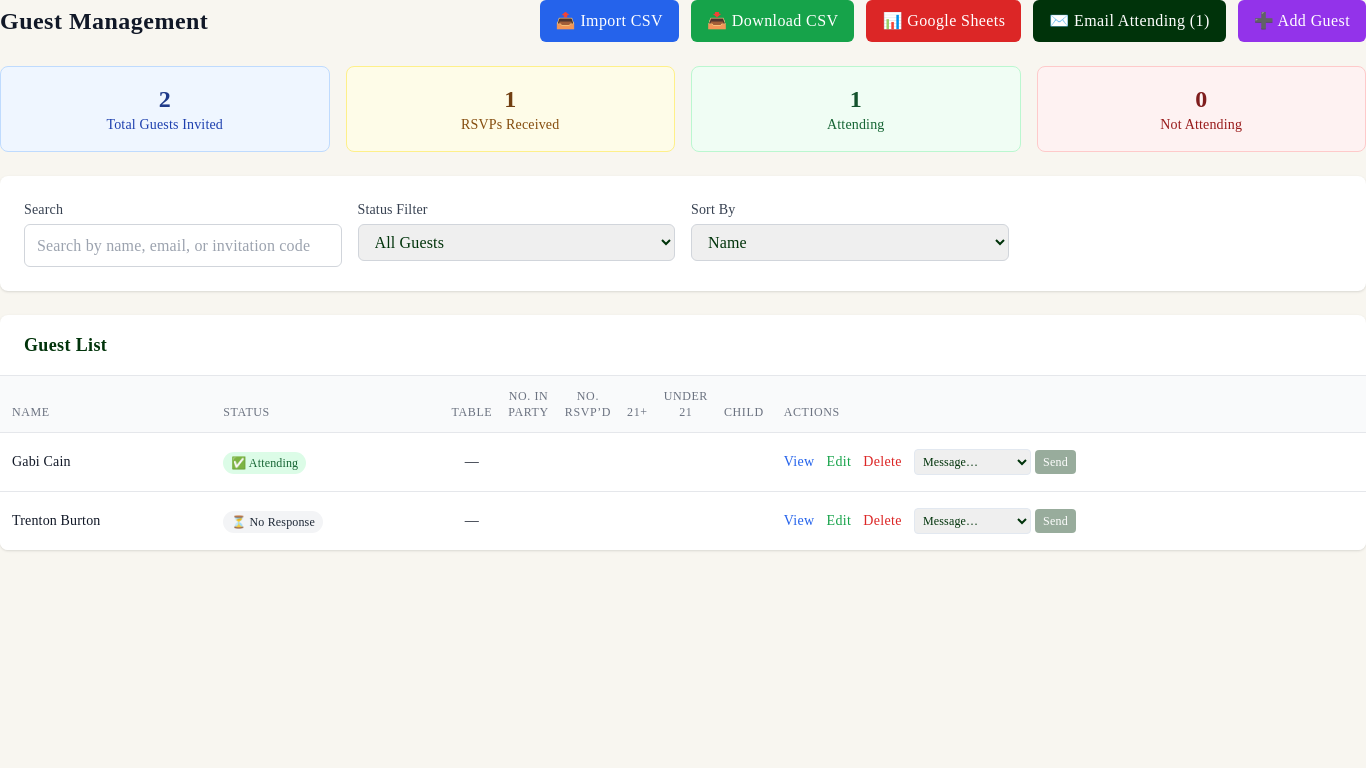
Test: the popup › closes itself once the file is downloaded
Expected: the text "Gabi Cain" is shown, [12,454,71,469]
Click the button "📥 Download CSV" at (773, 21), box [691,0,854,42]
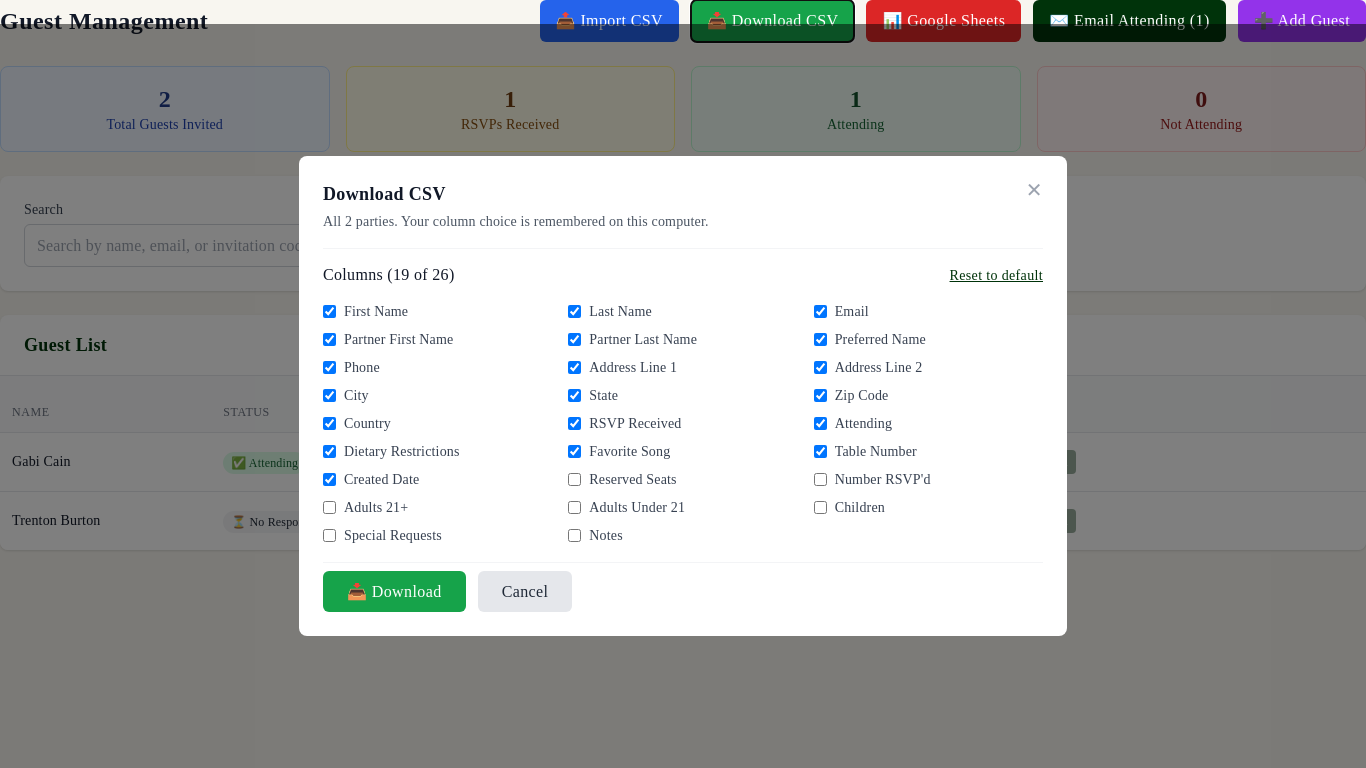
Click the button "📥 Download" at (394, 592), box [323,571,466,612]
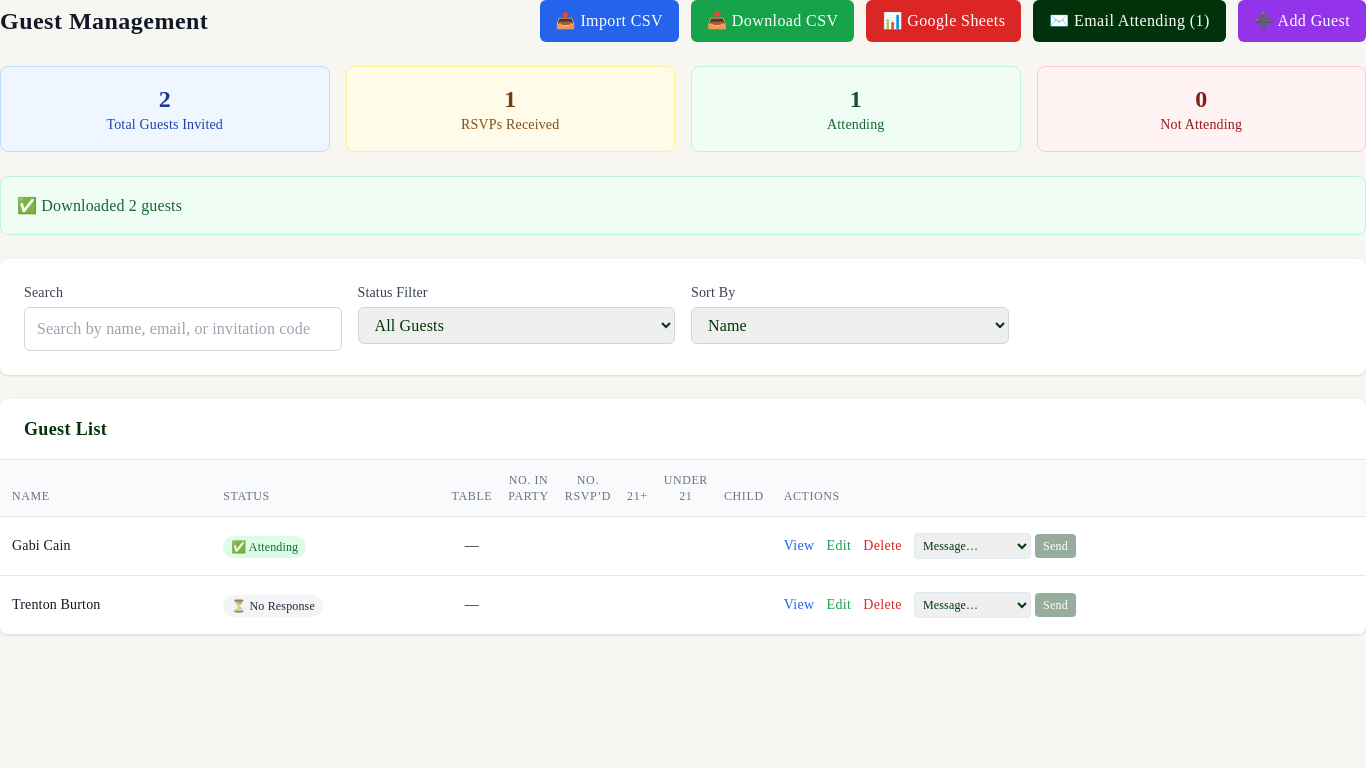
Expected: the dialog is gone
